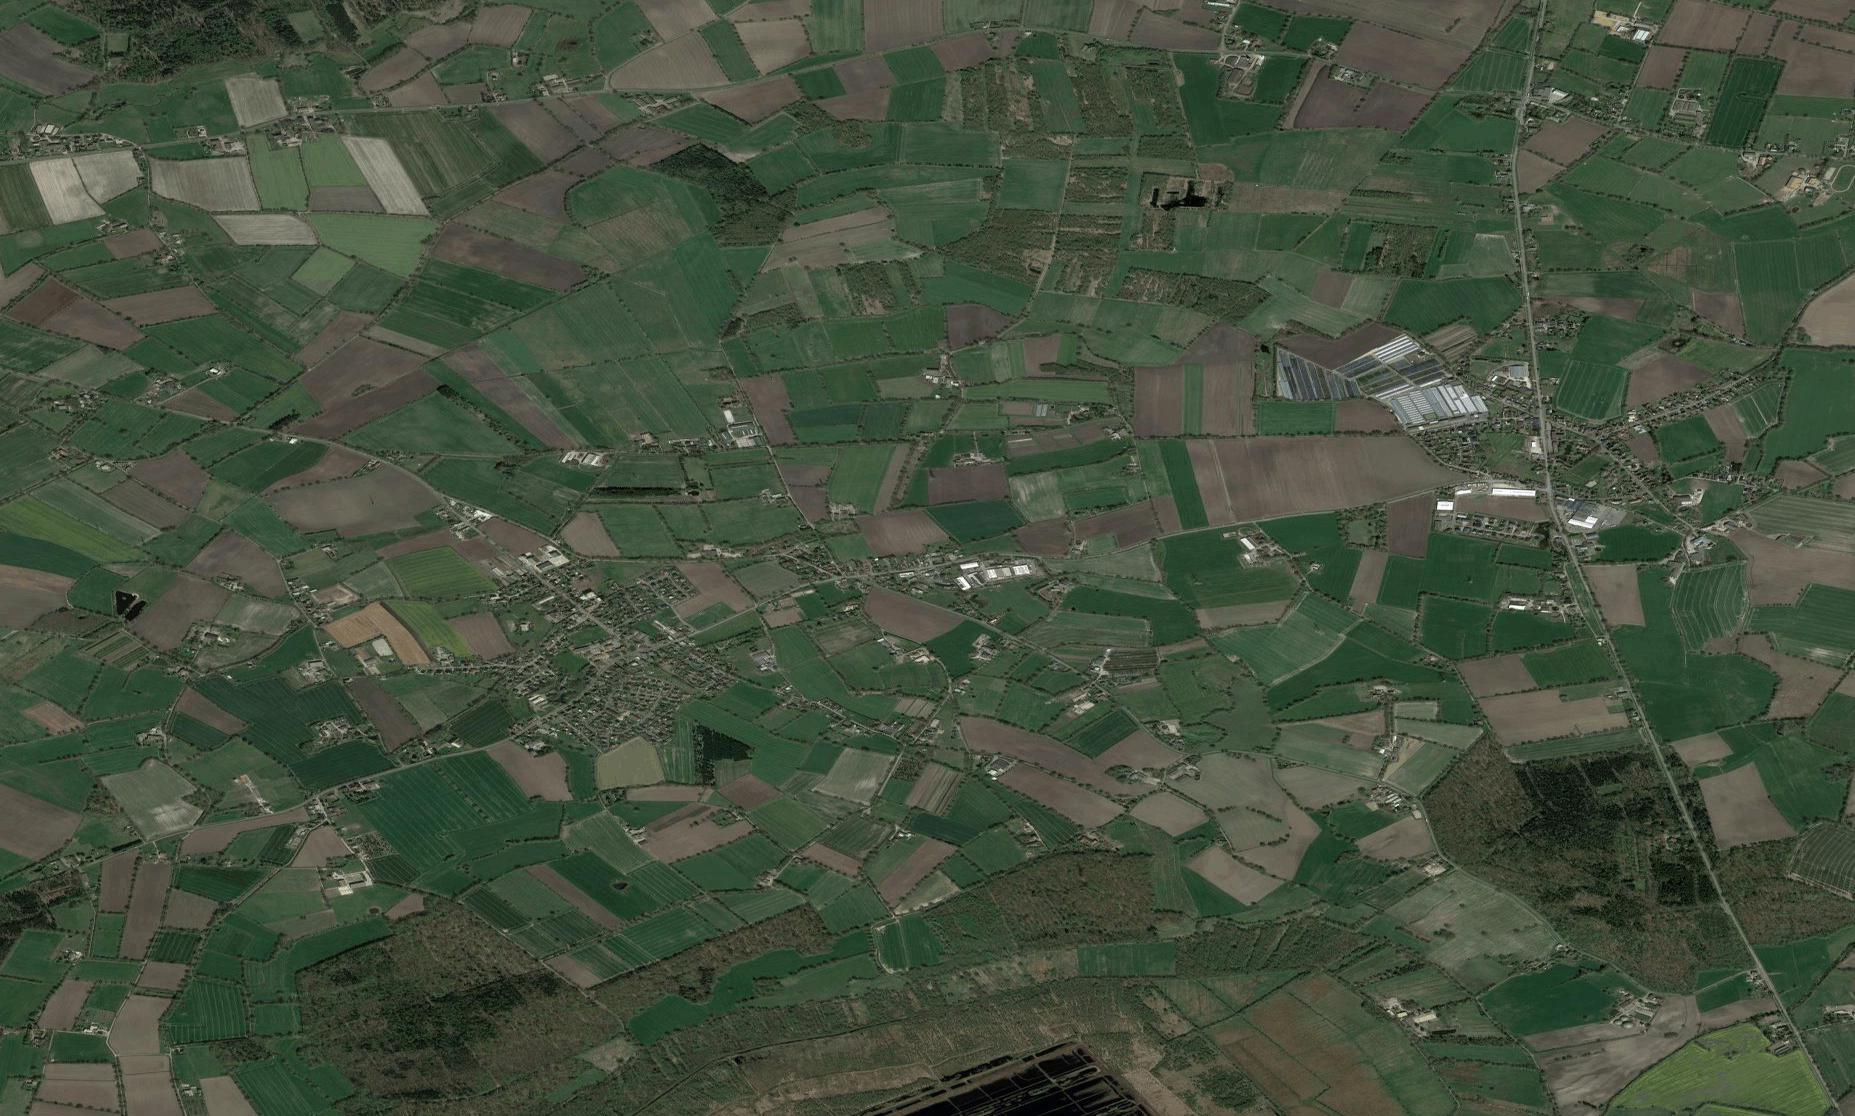industrial: (1338, 325, 1481, 443)
